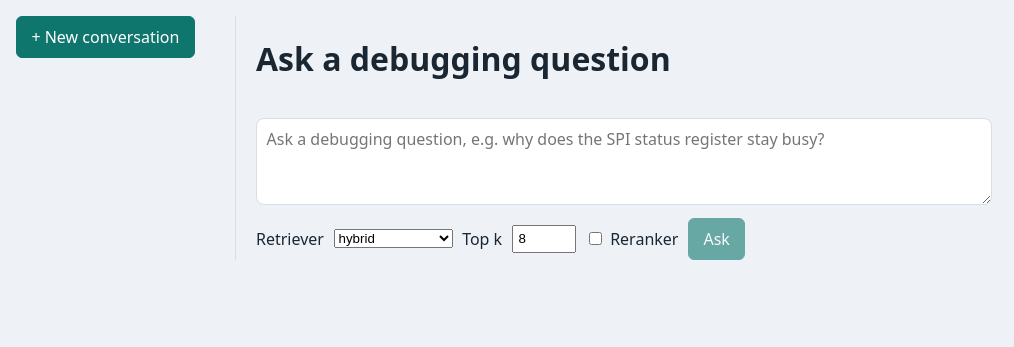
Test: AskPage › shows corpus-not-ready guidance when there is no indexed corpus
The width and height of the screenshot is (1014, 347).
Type "why does the flag stay set?" into the text box labelled "question".
click(624, 162); type("why does the flag stay set?")  # box left=256, top=118, right=992, bottom=205
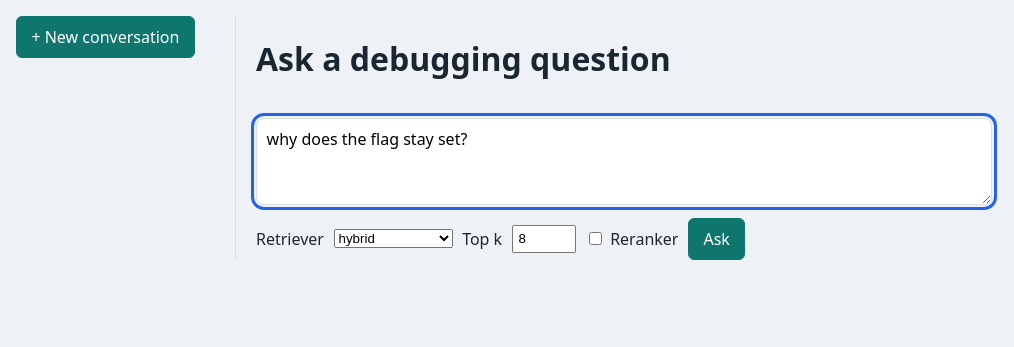
Click the button "Ask".
click(717, 239)  # box left=688, top=218, right=745, bottom=260
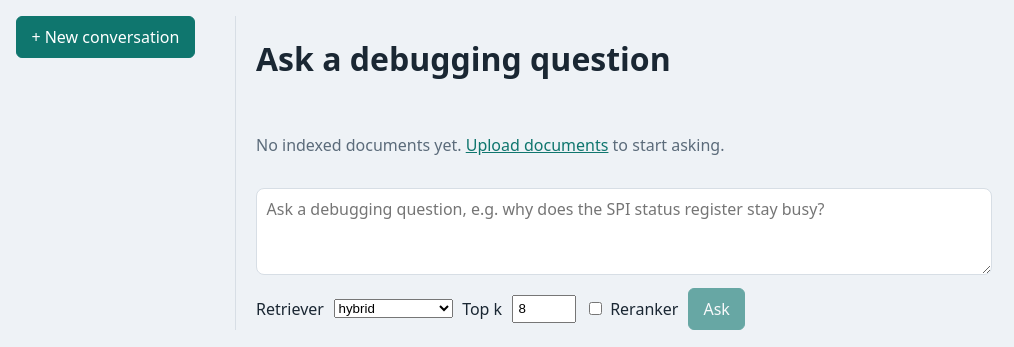
Expected: the text "No indexed documents yet. Upload documents to start asking." is shown, left=256, top=134, right=724, bottom=156
